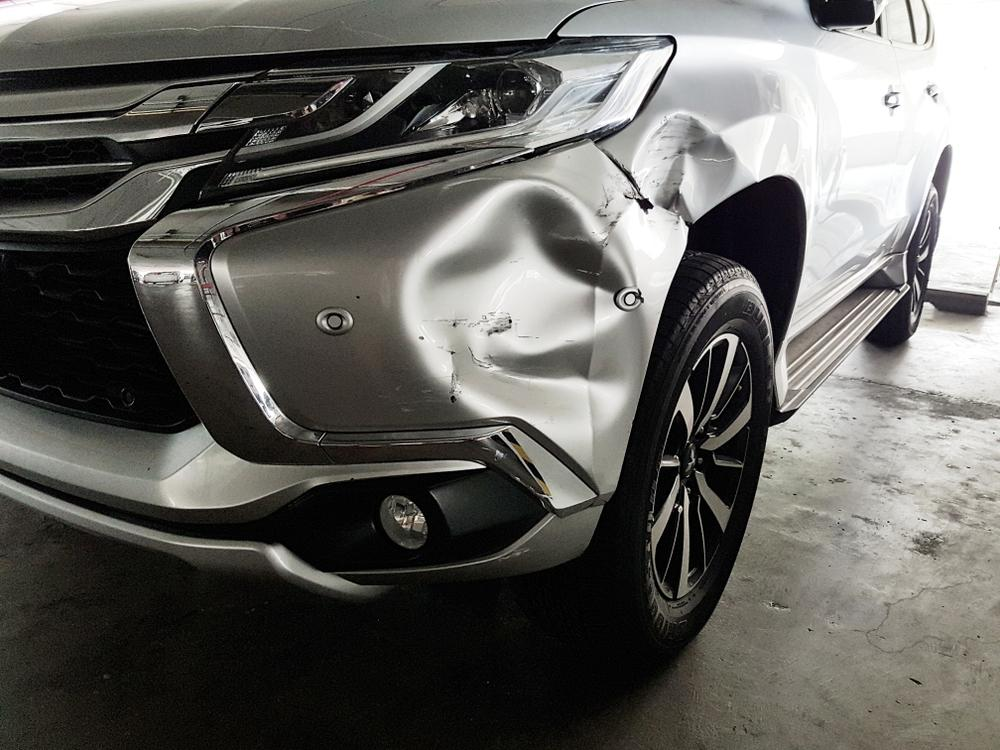dent: (403, 177, 642, 430), (639, 112, 803, 216)
scratch: (591, 170, 636, 239)
